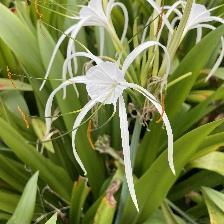spider lily: (43, 41, 181, 216)
